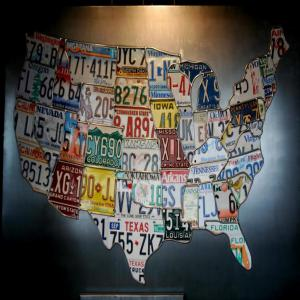Vehicle-registration-plate: (81, 121, 126, 180)
